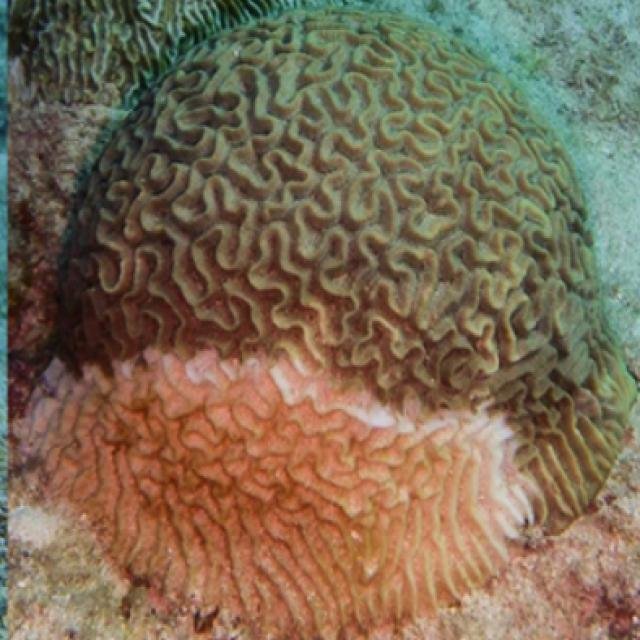Coral: (7, 10, 640, 640), (7, 0, 307, 111)
